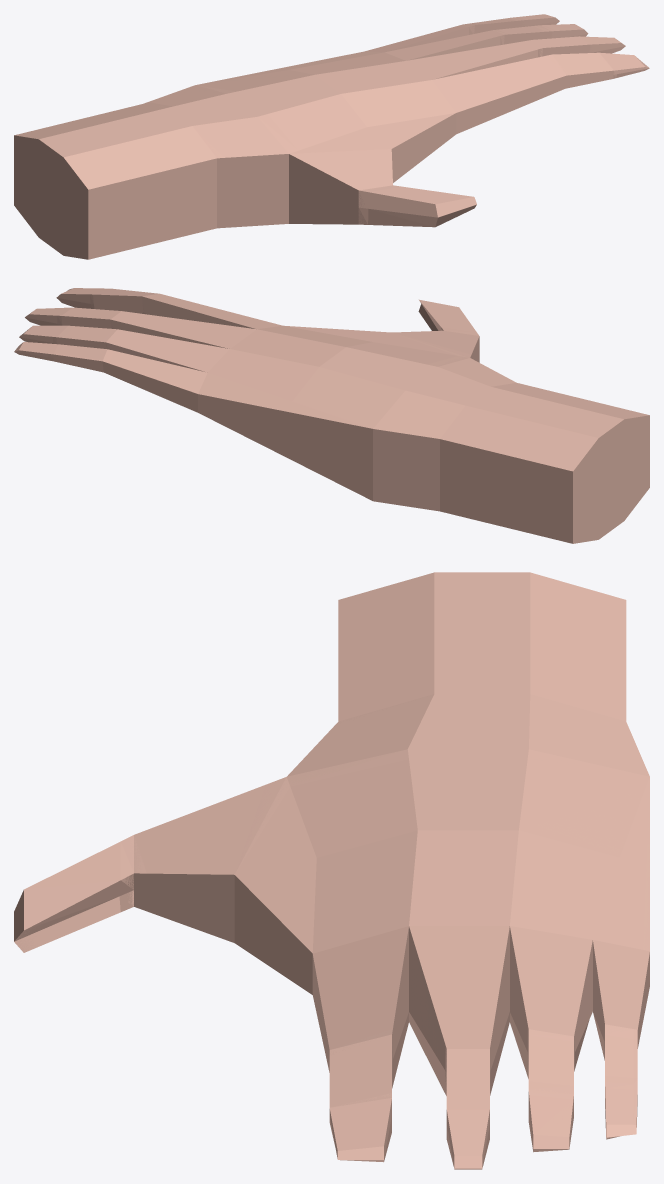
File: Lefthand.fbx
3 views of the same model, one above another, from view 1: azimuth 30°, elevation 25°; view 2: azimuth 150°, elevation 25°; view 3: azimuth 270°, elevation 25° (orthographic). The views are drawn at different scales.
Parts seen in each view (by area): view 1: Cube; view 2: Cube; view 3: Cube.
Boxes of the visible parts, <box> form: Cube: <box>14,14,649,259</box>; Cube: <box>14,288,649,543</box>; Cube: <box>14,572,649,1169</box>.
Size of the model in its own units: 881 by 146 by 442.
